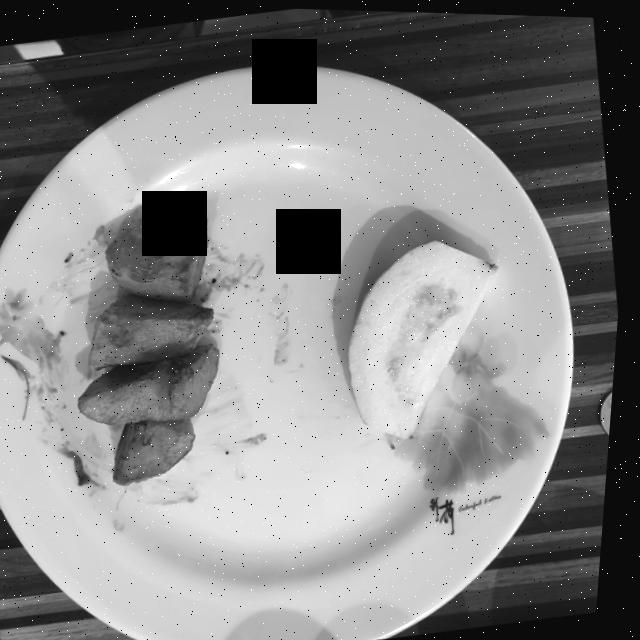coin: (605, 387, 618, 432)
fried potato: (84, 213, 223, 484)
guava -sliced-: (352, 238, 501, 437)
